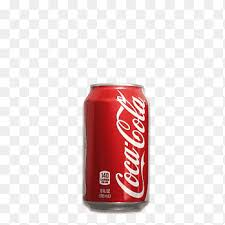can: (83, 82, 149, 214)
